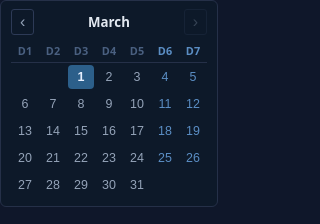
Test: CalendarDayPicker › clicking prev navigates to the previous month
Click the button with class "nav-btn" showing "‹" at (23, 22), box [11,9,34,35]
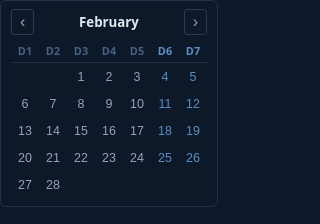
Check: the text with class "month-label" reads "February", box [79,13,139,31]
